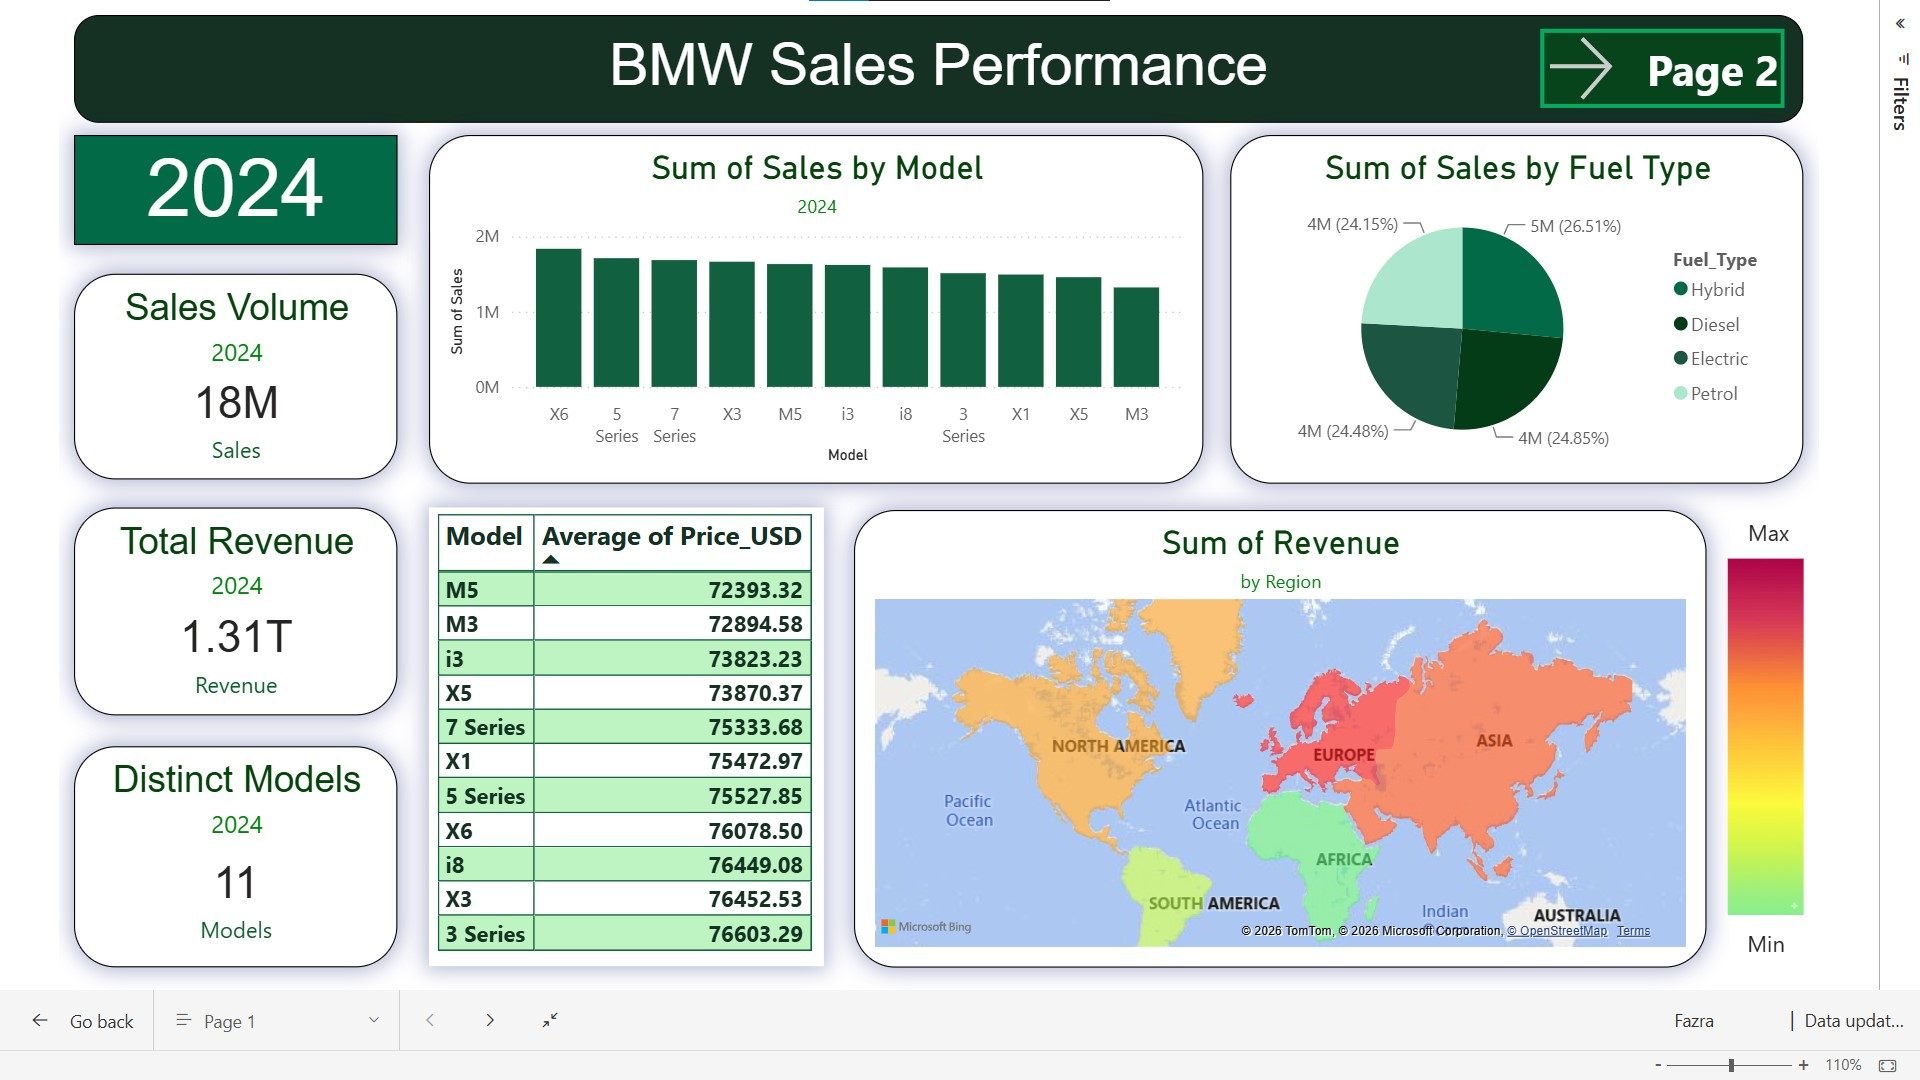

This screenshot's page, from the dashboard's own definition file:
{"tool":"powerbi","page":{"name":"Page 1","canvas":[1280,720],"ordinal":0},"visuals":[{"type":"textbox","box":[11,11,1257.7,78.5],"z":0},{"type":"card","title":"Sales Volume","fields":{"Values":["Sum(BMW sales data (2010-2024).Sales_Volume)"]},"box":[11,198.8,235.6,149.7],"z":1000},{"type":"card","title":"Total Revenue","fields":{"Values":["Sum(BMW sales data (2010-2024).Revenue)"]},"box":[11,369.3,235.6,150.9],"z":2000},{"type":"card","title":"Distinct Models","fields":{"Values":["Count(BMW sales data (2010-2024).Model)"]},"box":[11,542.3,235.6,160.7],"z":3000},{"type":"filledMap","fields":{"Category":["BMW sales data (2010-2024).Region"]},"box":[577.9,370.6,619.6,332.5],"z":4000},{"type":"clusteredColumnChart","fields":{"Category":["BMW sales data (2010-2024).Model"],"Y":["Sum(BMW sales data (2010-2024).Sales_Volume)"]},"box":[268.7,98.2,563.2,254],"z":5000},{"type":"tableEx","fields":{"Values":["BMW sales data (2010-2024).Model","Avg(BMW sales data (2010-2024).Price_USD)"]},"box":[268.7,369.3,287.1,333.7],"z":6000},{"type":"pieChart","title":"Sum of Sales by Fuel Type","fields":{"Category":["BMW sales data (2010-2024).Fuel_Type"],"Y":["Sum(BMW sales data (2010-2024).Sales_Volume)"]},"box":[851.5,98.2,417.2,254],"z":7000},{"type":"textbox","box":[11,98.2,235.6,79.8],"z":8000},{"type":"actionButton","box":[1077.3,20.9,177.9,57.7],"z":9000},{"type":"textbox","box":[1216,370.6,54,38],"z":10000},{"type":"textbox","box":[1214.7,669.9,54,33.1],"z":11000},{"type":"image","box":[1213.6,385.8,54.9,300.2],"z":12000}]}

Visuals, with their boxes on the page's 1280x720 design canvas (x1, y1, x2, y2). These are canvas units, not pixel positions in the 1920x1080 screenshot, which may show the page scaled, cropped or inside an application window:
textbox: crop(11, 11, 1269, 90)
"Sales Volume" card: crop(11, 199, 247, 348)
"Total Revenue" card: crop(11, 369, 247, 520)
"Distinct Models" card: crop(11, 542, 247, 703)
filledMap - BMW sales data (2010-2024).Region: crop(578, 371, 1198, 703)
clusteredColumnChart - BMW sales data (2010-2024).Model x Sum(BMW sales data (2010-2024).Sales_Volume): crop(269, 98, 832, 352)
tableEx - BMW sales data (2010-2024).Model x Avg(BMW sales data (2010-2024).Price_USD): crop(269, 369, 556, 703)
"Sum of Sales by Fuel Type" pieChart: crop(852, 98, 1269, 352)
textbox: crop(11, 98, 247, 178)
actionButton: crop(1077, 21, 1255, 79)
textbox: crop(1216, 371, 1270, 409)
textbox: crop(1215, 670, 1269, 703)
image: crop(1214, 386, 1268, 686)
